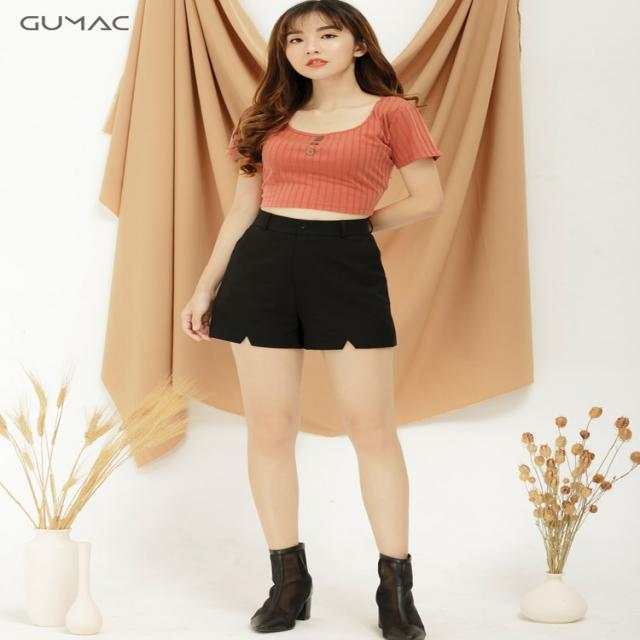clothes: (194, 85, 459, 356)
